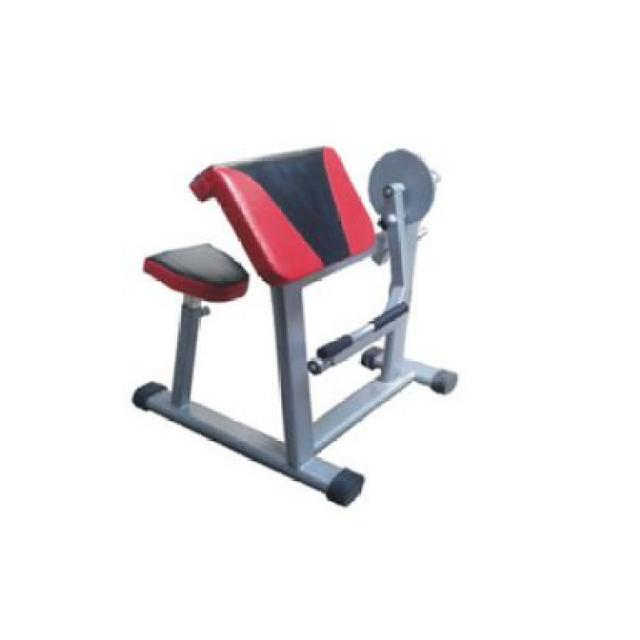arm curl machine: (131, 146, 460, 511)
